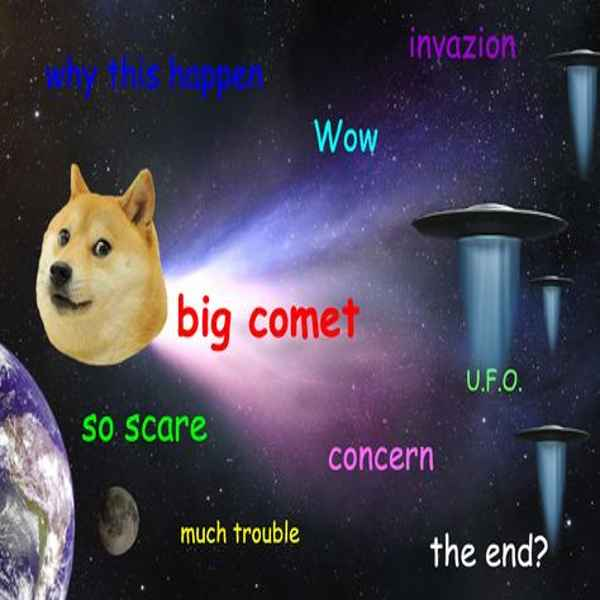doge: (26, 153, 181, 380)
